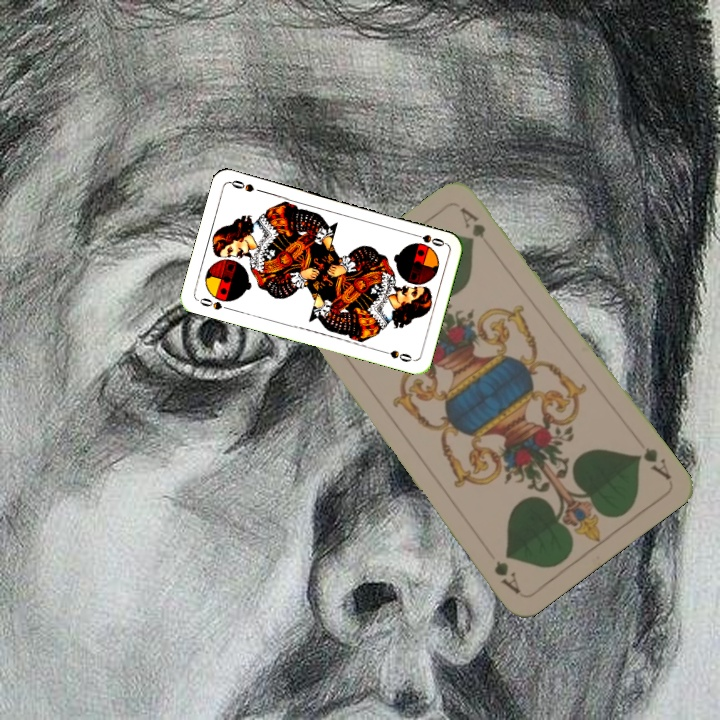GA: (632, 443, 674, 483)
SO: (408, 230, 448, 249), (194, 294, 234, 313)
